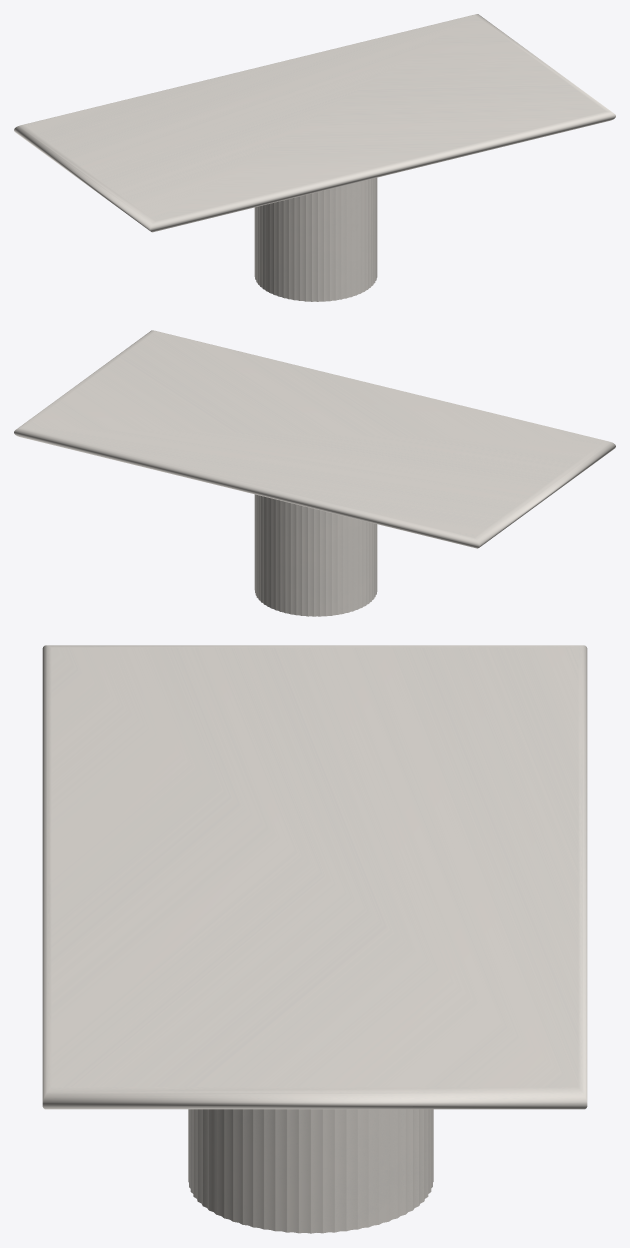
Rendered from pearlwhite_recta_round_ripple.glb.
3 renders of one model, top to bottom at view 1: azimuth 30°, elevation 25°; view 2: azimuth 150°, elevation 25°; view 3: azimuth 270°, elevation 25°, orthographic. The views are drawn at different scales.
Parts seen in each view (by area): view 1: round_recta, ripple; view 2: round_recta, ripple; view 3: round_recta, ripple.
Part boxes in pixels (box(x1,y1,x2,y2)): round_recta: box(14, 14, 615, 232); ripple: box(254, 177, 377, 301); round_recta: box(14, 330, 615, 548); ripple: box(254, 494, 377, 616); round_recta: box(42, 645, 587, 1109); ripple: box(188, 1109, 433, 1233).
Bounding box in the file's own units: 7.76 × 2.5 × 3.93.
Materials: 1 (1 with a texture image).
